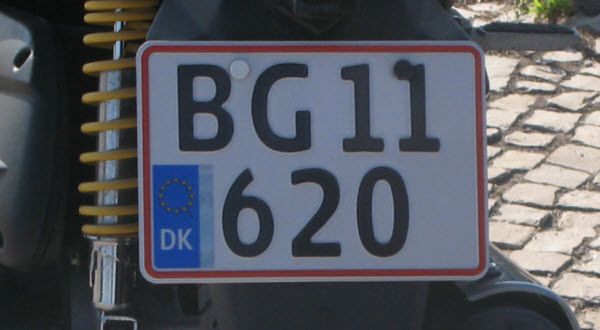license_plate: (138, 41, 487, 280)
